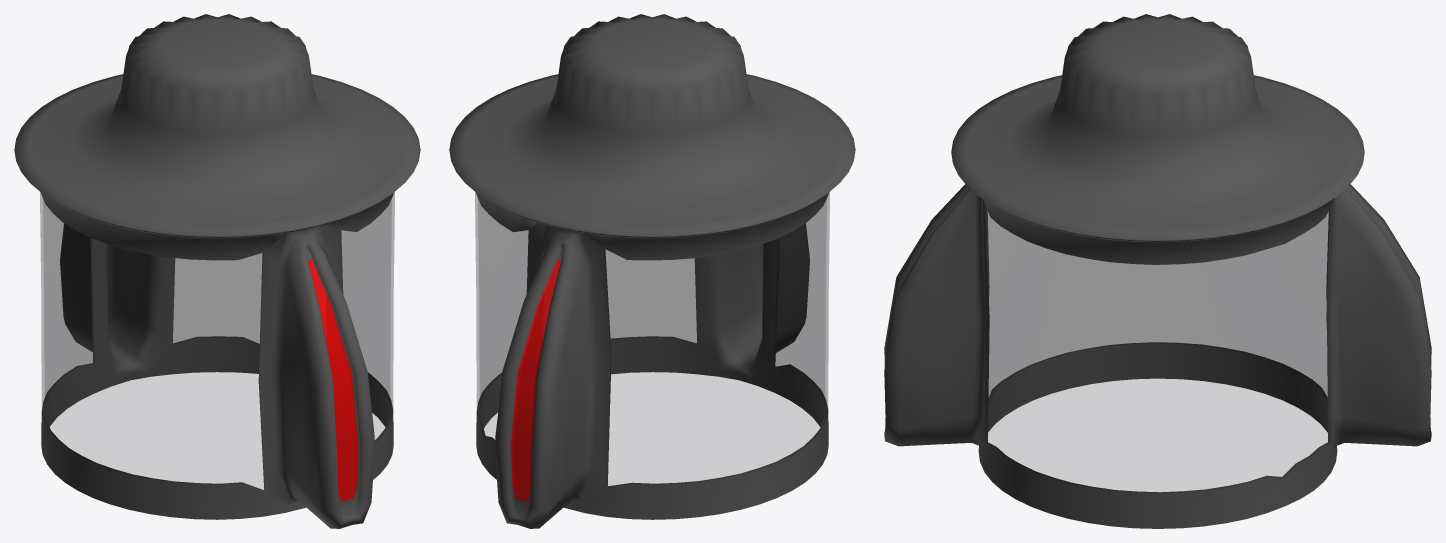
The model's file is future2_light.fbx.
3 renders of one model, left to right at view 1: azimuth 30°, elevation 25°; view 2: azimuth 150°, elevation 25°; view 3: azimuth 270°, elevation 25°, orthographic.
Visible parts, largest first — view 1: future2_light; view 2: future2_light; view 3: future2_light.
Boxes of the visible parts, x1,y1,x2,y2 form: future2_light: (14,14,420,528); future2_light: (449,14,855,528); future2_light: (884,14,1431,528).
Size of the model in its own units: 2.24 by 2.45 by 2.97.
